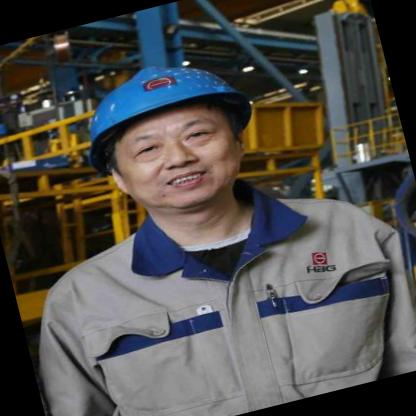bee: (52, 34, 288, 244)
